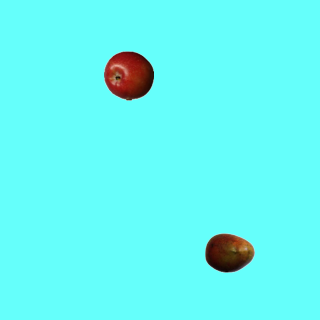Apple Braeburn: (103, 50, 153, 100)
Mango Red: (204, 227, 254, 277)
